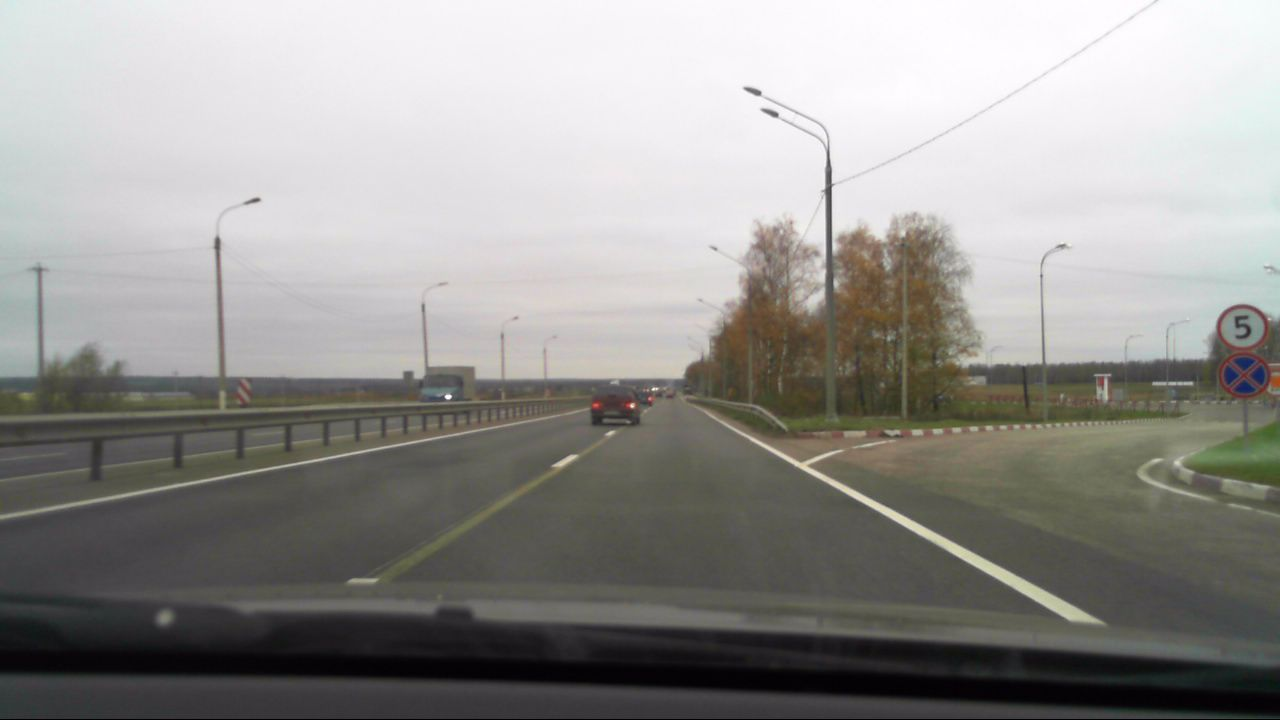No Parking: (1215, 353, 1272, 402)
